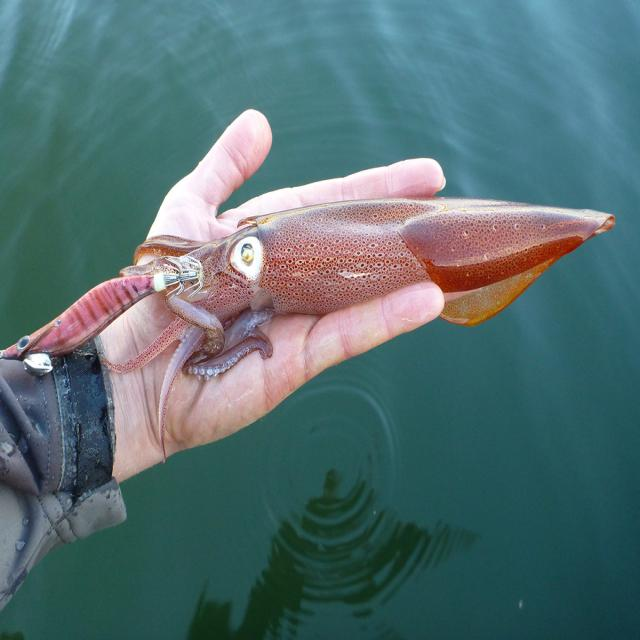SQUID: (0, 175, 631, 422)
